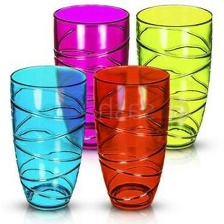glass: (87, 60, 172, 213), (5, 62, 89, 216), (47, 3, 132, 153), (132, 1, 214, 153)
